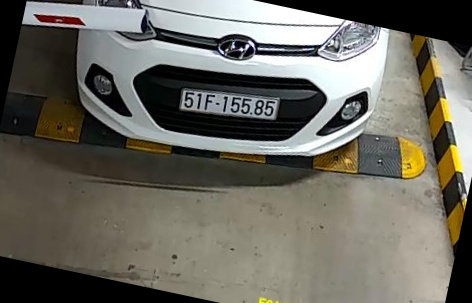plate: (172, 85, 287, 125)
